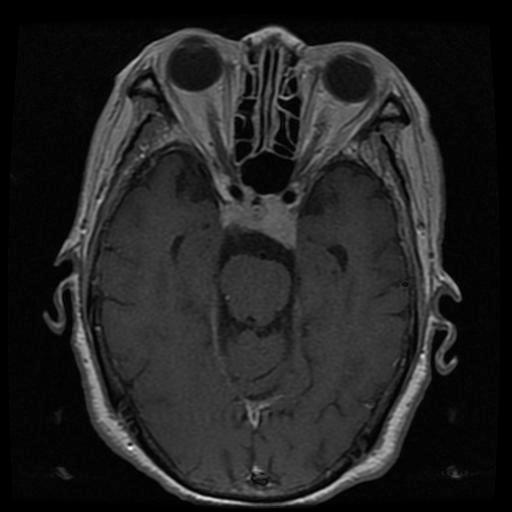Tumour-Pituitary: (210, 188, 312, 242)
